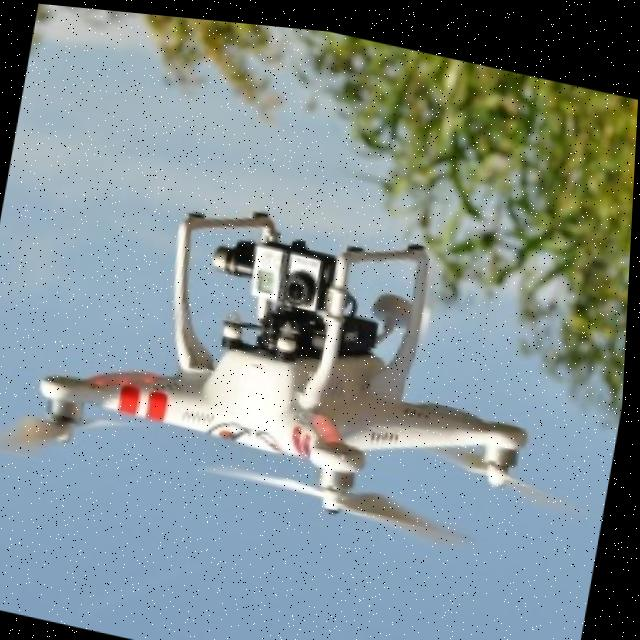drones: (0, 107, 636, 589)
